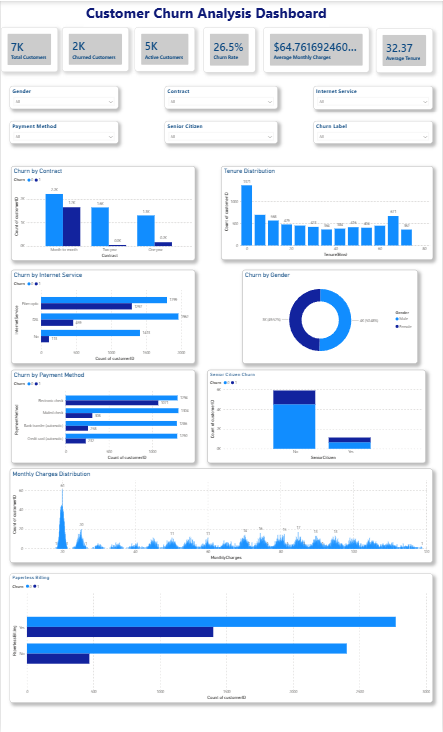

What the dashboard file says about the page in this screenshot:
{"tool":"powerbi","page":{"name":"Page 1","canvas":[1500,2500],"ordinal":0},"visuals":[{"type":"cardVisual","fields":{"Data":["Telco_customer_churn_clean.Total Customers"]},"box":[0,88.3,193.3,151.7],"z":0},{"type":"cardVisual","fields":{"Data":["Telco_customer_churn_clean.Churned Customers"]},"box":[210,90,226.7,150],"z":1000},{"type":"cardVisual","fields":{"Data":["Telco_customer_churn_clean.Active Customers"]},"box":[455,90,205,150],"z":2000},{"type":"cardVisual","fields":{"Data":["Telco_customer_churn_clean.Churn Rate"]},"box":[688.3,90,176.7,153.3],"z":3000},{"type":"cardVisual","fields":{"Data":["Telco_customer_churn_clean.Average Monthly Charges"]},"box":[893.3,90,360,153.3],"z":4000},{"type":"cardVisual","fields":{"Data":["Telco_customer_churn_clean.Average Tenure"]},"box":[1280,93.3,193.3,150],"z":5000},{"type":"clusteredColumnChart","title":"Churn by Contract","fields":{"Series":["Telco_customer_churn_clean.ChurnLabel"],"Category":["Telco_customer_churn_clean.Contract"],"Y":["Sum(Telco_customer_churn_clean.Count)"]},"box":[32,564,628,322],"z":6000},{"type":"clusteredBarChart","title":"Churn by Internet Service","fields":{"Series":["Telco_customer_churn_clean.ChurnLabel"],"Category":["Telco_customer_churn_clean.InternetService"],"Y":["Sum(Telco_customer_churn_clean.Count)"]},"box":[32,916,628,320],"z":7000},{"type":"clusteredBarChart","title":"Churn by Payment Method","fields":{"Series":["Telco_customer_churn_clean.ChurnLabel"],"Category":["Telco_customer_churn_clean.PaymentMethod"],"Y":["Sum(Telco_customer_churn_clean.Count)"]},"box":[32,1258,628,318],"z":8000},{"type":"clusteredColumnChart","title":"Monthly Charges Distribution","fields":{"Category":["Telco_customer_churn_clean.MonthlyCharges"],"Y":["Sum(Telco_customer_churn_clean.Count)"]},"box":[31.7,1591.7,1441.7,321.7],"z":9000},{"type":"clusteredColumnChart","title":"Tenure Distribution","fields":{"Category":["Telco_customer_churn_clean.TenureMonths (bins)"],"Y":["Sum(Telco_customer_churn_clean.Count)"]},"box":[750,563.3,723.3,320],"z":10000},{"type":"donutChart","title":"Churn by Gender","fields":{"Category":["Telco_customer_churn_clean.Gender"],"Y":["Sum(Telco_customer_churn_clean.Count)"]},"box":[823.3,916.7,598.3,320],"z":11000},{"type":"columnChart","title":"Senior Citizen Churn","fields":{"Category":["Telco_customer_churn_clean.SeniorCitizen"],"Series":["Telco_customer_churn_clean.ChurnLabel"],"Y":["Sum(Telco_customer_churn_clean.Count)"]},"box":[701.7,1258.3,745,318.3],"z":12000},{"type":"clusteredBarChart","title":"Paperless Billing","fields":{"Series":["Telco_customer_churn_clean.ChurnLabel"],"Category":["Telco_customer_churn_clean.PaperlessBilling"],"Y":["Sum(Telco_customer_churn_clean.Count)"]},"box":[31.7,1953.3,1441.7,440],"z":13000},{"type":"slicer","title":"Gender","fields":{"Values":["Telco_customer_churn_clean.Gender"]},"box":[31.7,290,370,78.3],"z":14000},{"type":"slicer","title":"Contract","fields":{"Values":["Telco_customer_churn_clean.Contract"]},"box":[556.7,290,385,78.3],"z":15000},{"type":"slicer","title":"Internet Service","fields":{"Values":["Telco_customer_churn_clean.InternetService"]},"box":[1066.7,290,406.7,80],"z":16000},{"type":"slicer","title":"Payment Method","fields":{"Values":["Telco_customer_churn_clean.PaymentMethod"]},"box":[31.7,410,370,76.7],"z":17000},{"type":"slicer","title":"Senior Citizen","fields":{"Values":["Telco_customer_churn_clean.SeniorCitizen"]},"box":[556.7,410,385,76.7],"z":18000},{"type":"slicer","title":"Churn Label","fields":{"Values":["Telco_customer_churn_clean.ChurnLabel"]},"box":[1066.7,410,406.7,76.7],"z":19000},{"type":"textbox","box":[282.5,0,837.5,87.5],"z":20000}]}

Visuals, with their boxes in screenshot pixels (x1, y1, x2, y2), scaled from the page's 1500x2500 canvas onto the 443x732 screenshot:
cardVisual - Telco_customer_churn_clean.Total Customers: [0,26,57,70]
cardVisual - Telco_customer_churn_clean.Churned Customers: [62,26,129,70]
cardVisual - Telco_customer_churn_clean.Active Customers: [134,26,195,70]
cardVisual - Telco_customer_churn_clean.Churn Rate: [203,26,255,71]
cardVisual - Telco_customer_churn_clean.Average Monthly Charges: [264,26,370,71]
cardVisual - Telco_customer_churn_clean.Average Tenure: [378,27,435,71]
"Churn by Contract" clusteredColumnChart: [9,165,195,259]
"Churn by Internet Service" clusteredBarChart: [9,268,195,362]
"Churn by Payment Method" clusteredBarChart: [9,368,195,461]
"Monthly Charges Distribution" clusteredColumnChart: [9,466,435,560]
"Tenure Distribution" clusteredColumnChart: [222,165,435,259]
"Churn by Gender" donutChart: [243,268,420,362]
"Senior Citizen Churn" columnChart: [207,368,427,462]
"Paperless Billing" clusteredBarChart: [9,572,435,701]
"Gender" slicer: [9,85,119,108]
"Contract" slicer: [164,85,278,108]
"Internet Service" slicer: [315,85,435,108]
"Payment Method" slicer: [9,120,119,143]
"Senior Citizen" slicer: [164,120,278,143]
"Churn Label" slicer: [315,120,435,143]
textbox: [83,0,331,26]
